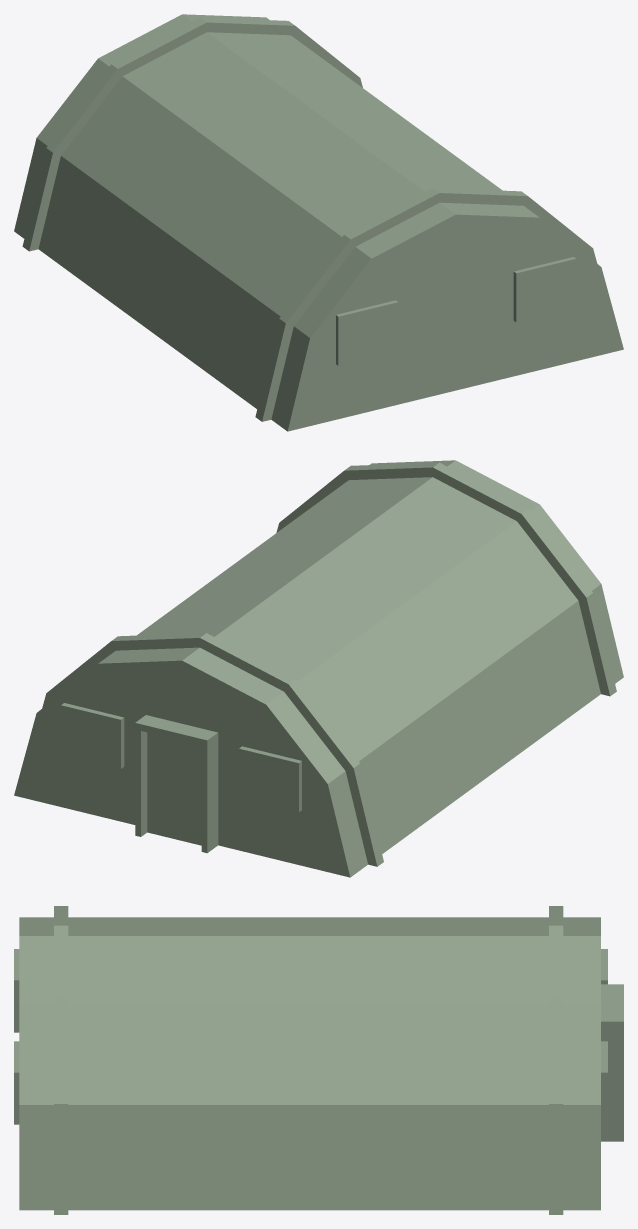
The model's file is building_02.fbx.
3 views of the same model, one above another, from view 1: azimuth 30°, elevation 25°; view 2: azimuth 150°, elevation 25°; view 3: azimuth 270°, elevation 25° (orthographic). The views are drawn at different scales.
Parts seen in each view (by area): view 1: building_02; view 2: building_02; view 3: building_02.
Boxes of the visible parts, x1=… form: building_02: x1=14, y1=14, x2=623, y2=431; building_02: x1=14, y1=460, x2=623, y2=877; building_02: x1=14, y1=906, x2=623, y2=1214.
Size of the model in its own units: 12.68 by 6.34 by 17.76.
